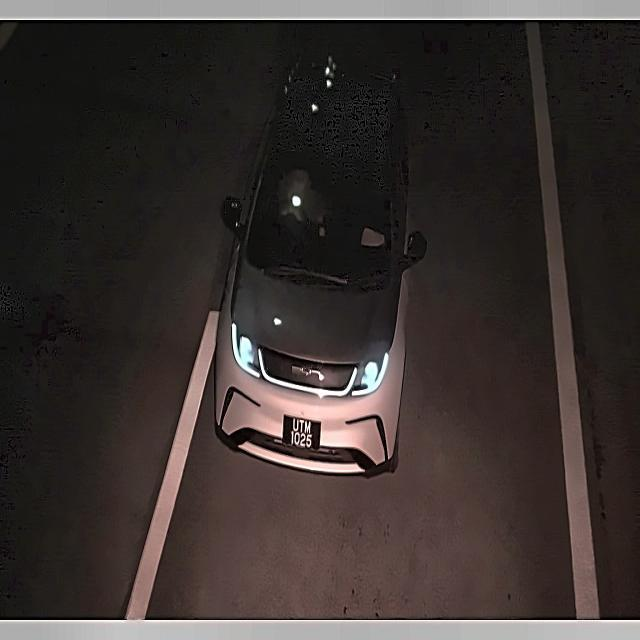car: (277, 407, 326, 460)
